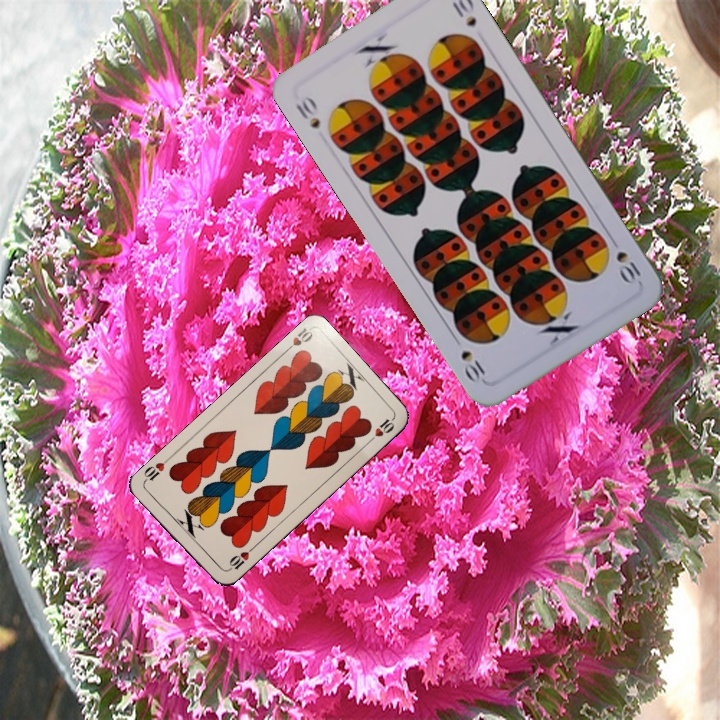H10: (280, 324, 316, 356), (223, 543, 257, 574)
S10: (612, 247, 644, 288), (291, 92, 323, 132)
